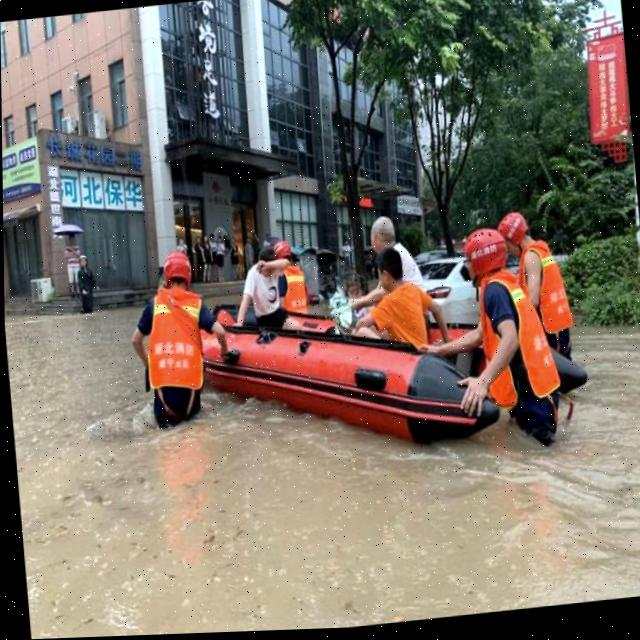civilian: (345, 239, 447, 363), (332, 208, 425, 328), (224, 241, 297, 347), (54, 229, 89, 301), (74, 249, 105, 324), (198, 234, 215, 288), (228, 233, 244, 285), (206, 230, 221, 283), (241, 234, 257, 281), (214, 234, 229, 284), (248, 226, 265, 259), (174, 235, 189, 256)
rescuer: (424, 215, 564, 480), (122, 243, 239, 449), (495, 199, 582, 379), (270, 235, 318, 332)
